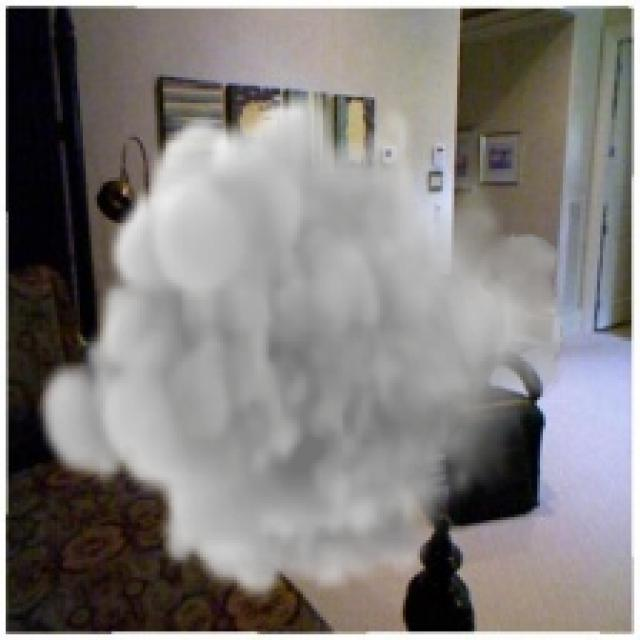Smoke: (31, 86, 568, 603)
